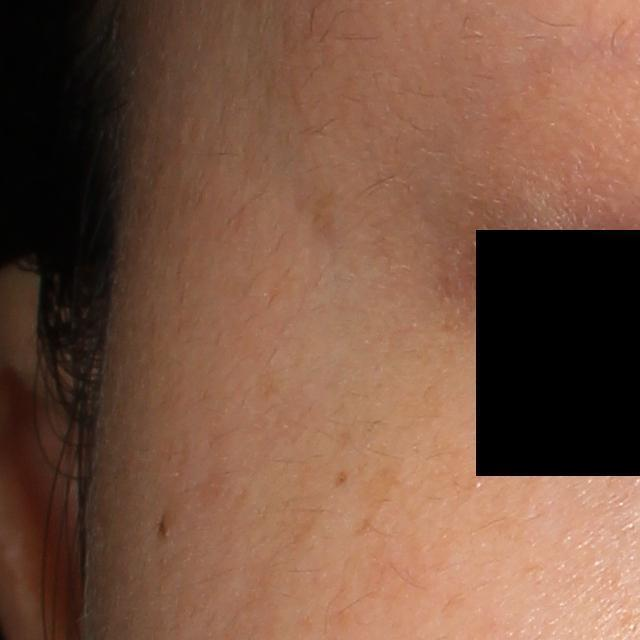nevus: (156, 508, 174, 543)
